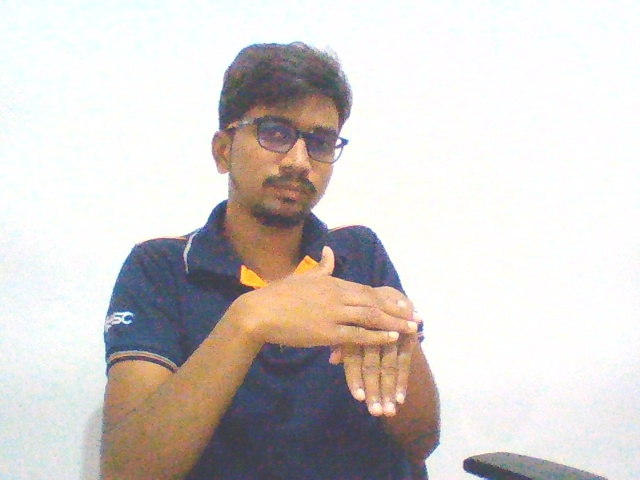pineapple: (217, 240, 424, 419)
